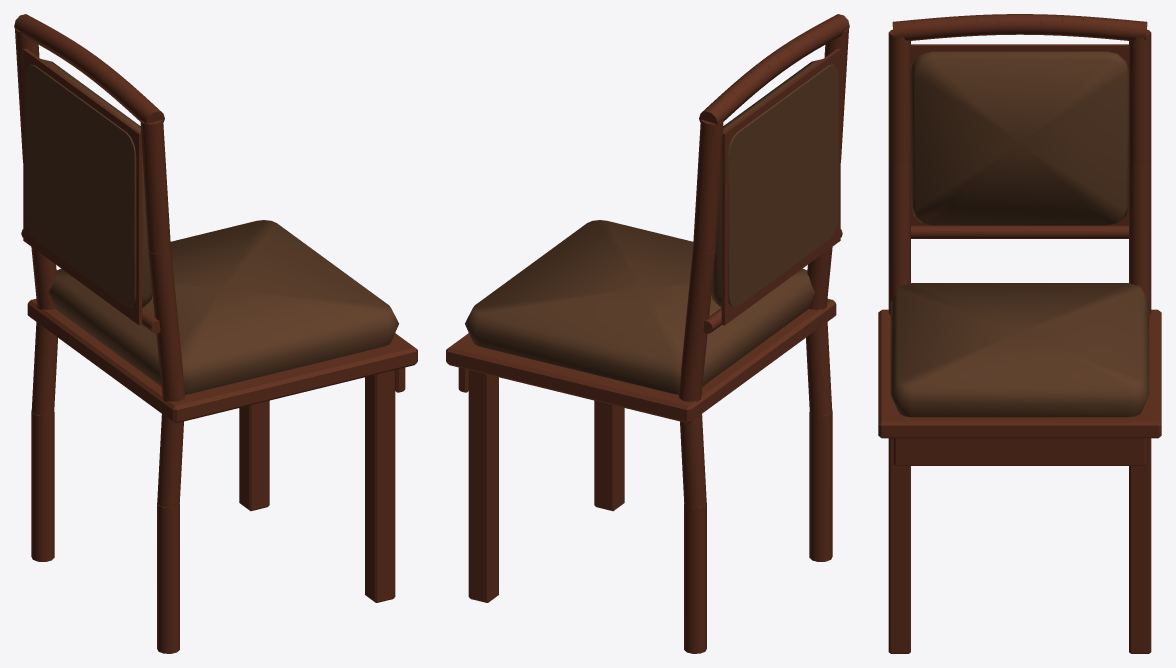
The model's file is parametric-chair-2nd-pub.glb.
3 renders of one model, left to right at view 1: azimuth 30°, elevation 25°; view 2: azimuth 150°, elevation 25°; view 3: azimuth 270°, elevation 25°, orthographic. The views are drawn at different scales.
Visible parts, largest first — view 1: parametric-chair-2nd-pub; view 2: parametric-chair-2nd-pub; view 3: parametric-chair-2nd-pub.
Part boxes in pixels (<box>): parametric-chair-2nd-pub: <box>14,14,417,653</box>; parametric-chair-2nd-pub: <box>446,14,849,653</box>; parametric-chair-2nd-pub: <box>878,14,1161,653</box>.
Bounding box in the file's own units: 0.4771 × 0.9462 × 0.46.
